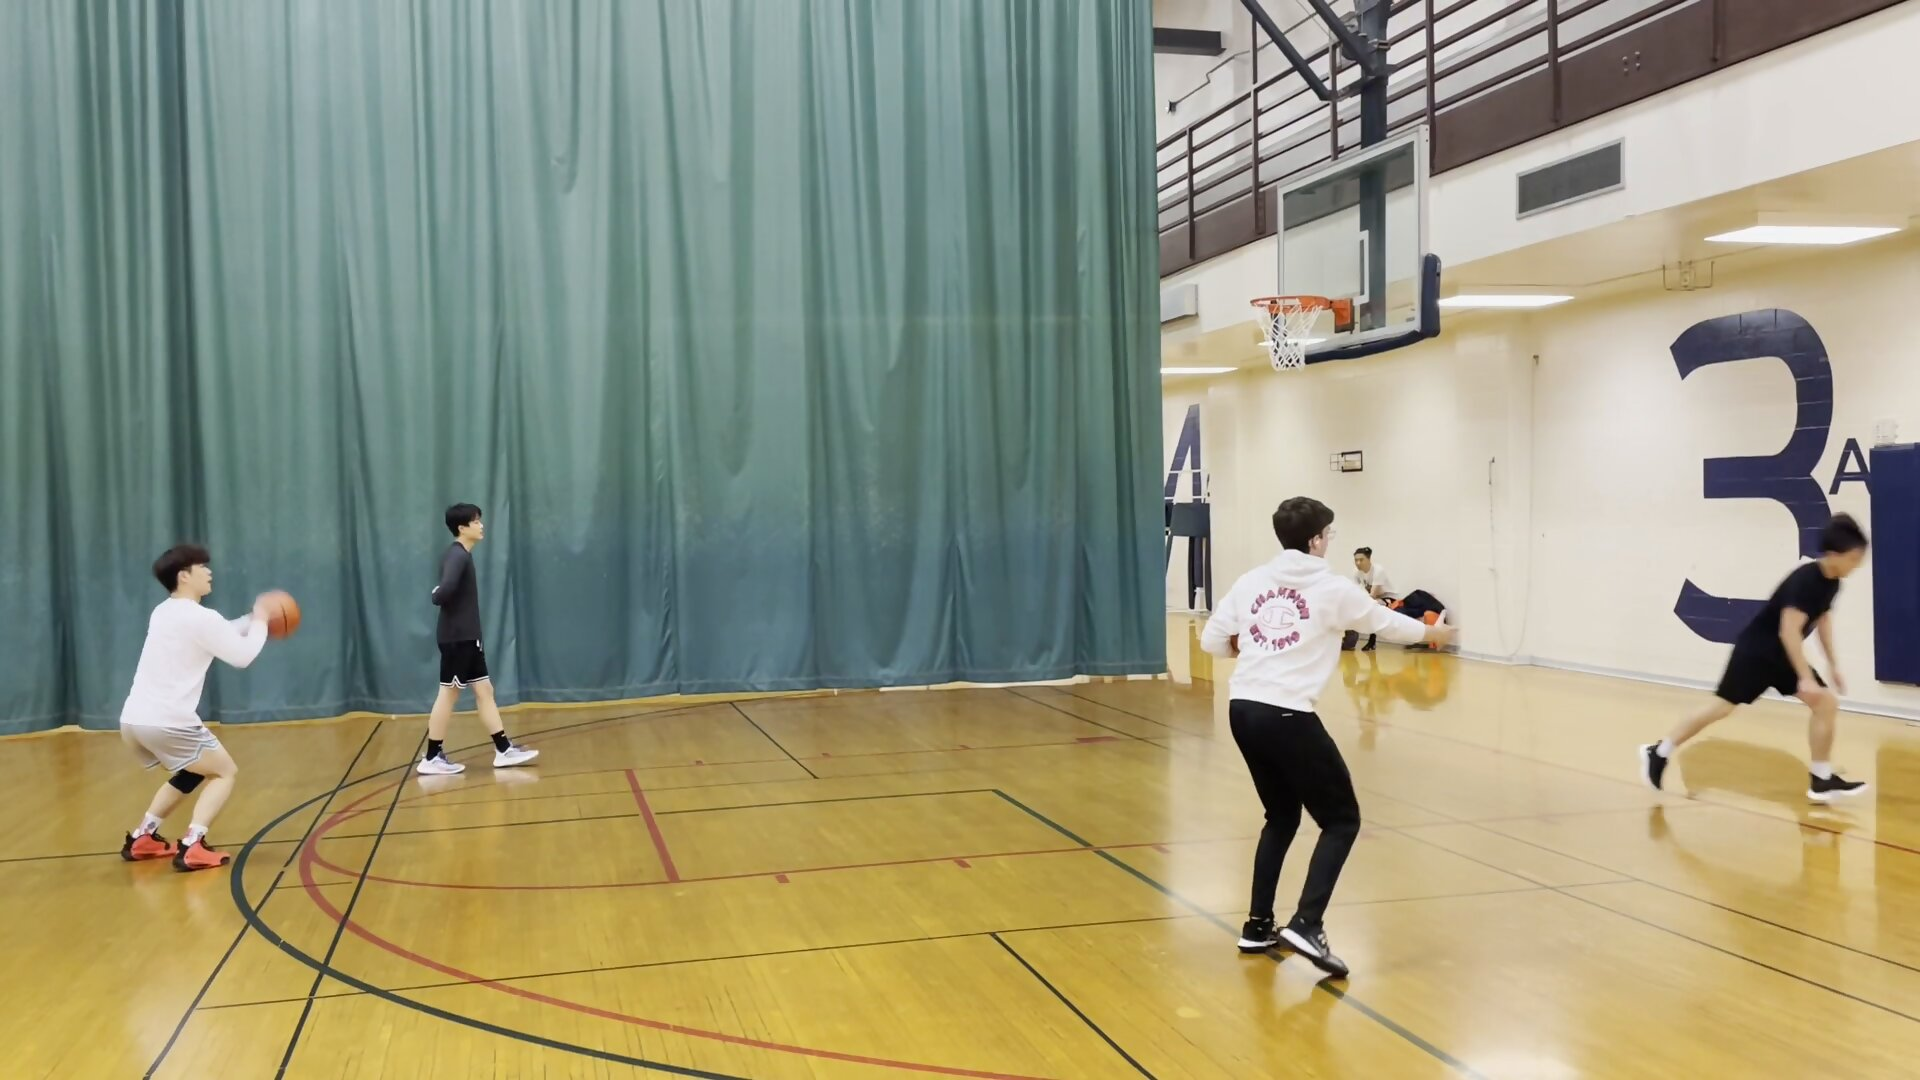ball: (246, 588, 307, 643)
net: (1259, 341, 1312, 382)
player: (1200, 495, 1439, 981), (1638, 510, 1877, 815), (106, 541, 272, 877), (414, 501, 541, 773), (1340, 546, 1402, 610)
rim: (1246, 289, 1334, 317)
